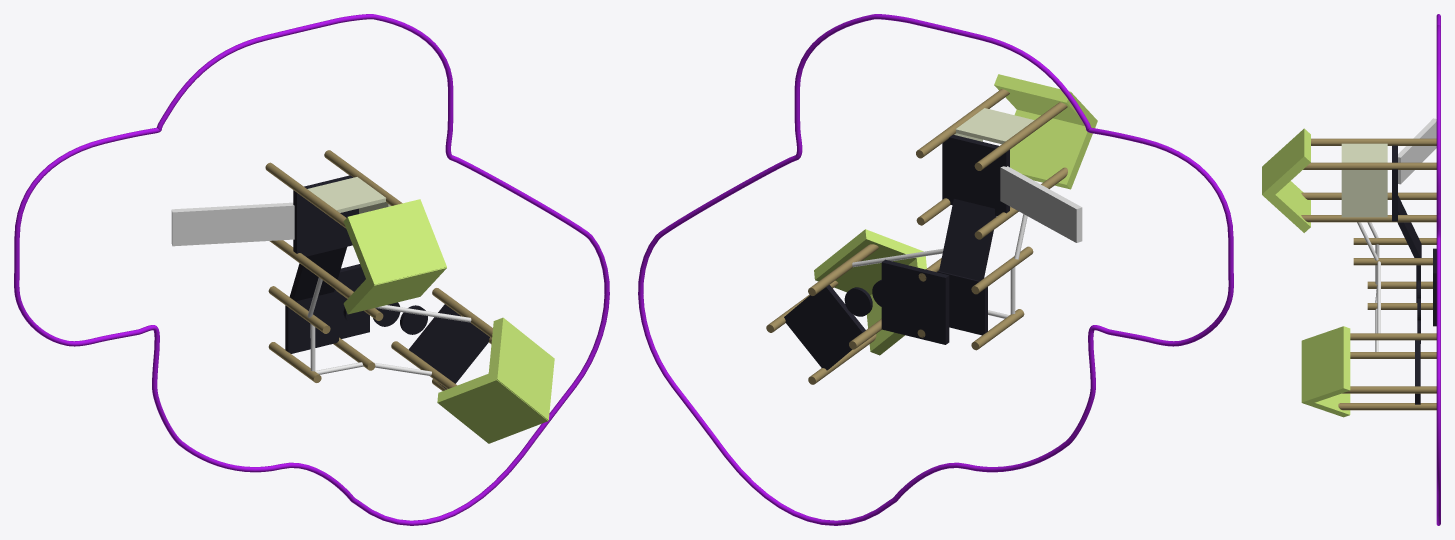
Rendered from leber-lgik-120.glb.
The picture shows the model from 3 angles, left to right: view 1: azimuth 30°, elevation 25°; view 2: azimuth 150°, elevation 25°; view 3: azimuth 270°, elevation 25°; orthographic projection. The views are drawn at different scales.
Parts seen in each view (by area): view 1: _outline.004, Cube.009, Cube.007, Cube.010, Cube.011, Cube.005, Cube.023, Cube.003, Cube.008, Cube.012, Cube.006, Cube.004 (+5 smaller); view 2: _outline.004, Cube.004, Cube.008, Cube.005, Cube.023, Cube.007, Cube.006, Cube.011, Cube.009, Cube.003, Cube.012, Cylinder.009 (+5 smaller); view 3: Cube.011, _outline.004, Cube.013, Cube.009, Cube.008, Cylinder.005, Cube.007, Cylinder.006, Cube.012, Cylinder.009, Cylinder.013, Cylinder.014 (+13 smaller).
Part boxes in pixels (box(x1,y1,x2,y2)): _outline.004: box(14, 14, 609, 525); Cube.009: box(343, 199, 446, 288); Cube.007: box(171, 202, 294, 246); Cube.010: box(437, 370, 547, 443); Cube.011: box(488, 317, 554, 420); Cube.005: box(408, 304, 489, 389); Cube.023: box(293, 175, 358, 256); Cube.003: box(285, 289, 338, 353); Cube.008: box(343, 267, 446, 314); Cube.012: box(307, 177, 386, 212); Cube.006: box(289, 247, 346, 301); Cube.004: box(337, 264, 369, 338); _outline.004: box(638, 14, 1233, 525); Cube.004: box(881, 259, 949, 344); Cube.008: box(1010, 109, 1097, 189); Cube.005: box(784, 285, 865, 370); Cube.023: box(942, 134, 1009, 215); Cube.007: box(1000, 166, 1082, 242); Cube.006: box(939, 199, 996, 280); Cube.011: box(814, 229, 925, 295); Cube.009: box(994, 74, 1097, 128); Cube.003: box(937, 270, 987, 335); Cube.012: box(955, 108, 1034, 144); Cylinder.009: box(974, 102, 1067, 170); Cube.011: box(1301, 326, 1350, 402); _outline.004: box(1436, 14, 1440, 525); Cube.013: box(1341, 170, 1387, 217); Cube.009: box(1262, 128, 1310, 198); Cube.008: box(1262, 181, 1310, 232); Cylinder.005: box(1303, 162, 1436, 169); Cube.007: box(1398, 118, 1436, 184); Cylinder.006: box(1301, 215, 1436, 222); Cube.012: box(1341, 143, 1387, 162); Cylinder.009: box(1311, 138, 1436, 145); Cylinder.013: box(1338, 403, 1436, 410); Cylinder.014: box(1342, 386, 1436, 393).
Size of the model in its own units: 7.63 by 6.48 by 2.52.
